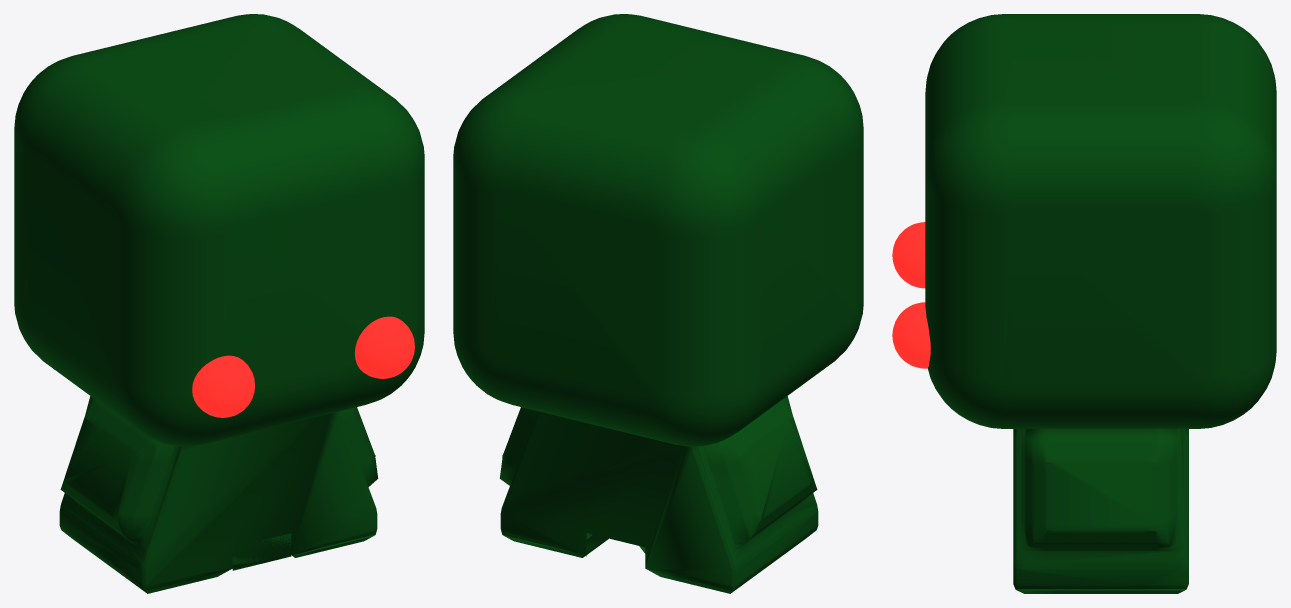
Rendered from Juguete.fbx.
3 views of the same model, side by side, from view 1: azimuth 30°, elevation 25°; view 2: azimuth 150°, elevation 25°; view 3: azimuth 270°, elevation 25° (orthographic). The views are drawn at different scales.
Visible parts, largest first — view 1: Cube.007; view 2: Cube.007; view 3: Cube.007.
Part boxes in pixels (x1=…): Cube.007: x1=14, y1=14, x2=424, y2=593; Cube.007: x1=453, y1=14, x2=863, y2=593; Cube.007: x1=892, y1=14, x2=1276, y2=593.
Size of the model in its own units: 200 by 300 by 219.
